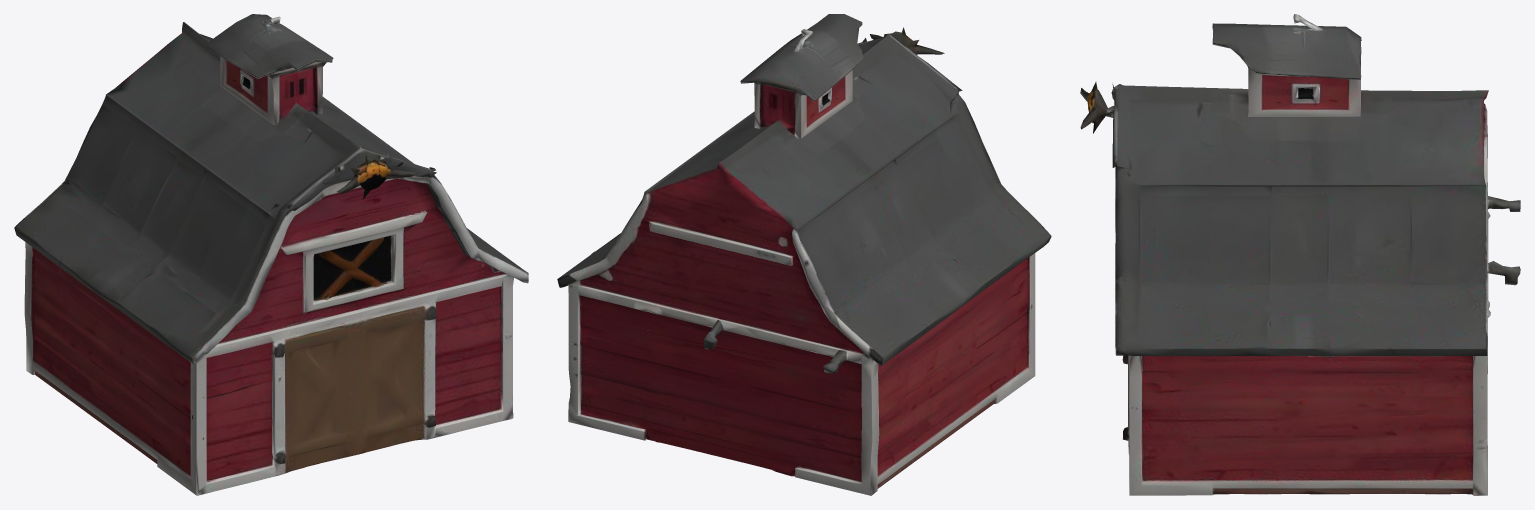
The model's file is barn.glb.
The picture shows the model from 3 angles, left to right: view 1: azimuth 30°, elevation 25°; view 2: azimuth 150°, elevation 25°; view 3: azimuth 270°, elevation 25°; orthographic projection. The views are drawn at different scales.
Visible parts, largest first — view 1: BarnBody; view 2: BarnBody; view 3: BarnBody.
Part boxes in pixels (x1=…): BarnBody: x1=14, y1=14, x2=528, y2=495; BarnBody: x1=557, y1=14, x2=1051, y2=495; BarnBody: x1=1080, y1=14, x2=1520, y2=495.
Size of the model in its own units: 9.35 by 10 by 10.
Materials: 1 (1 with a texture image).
